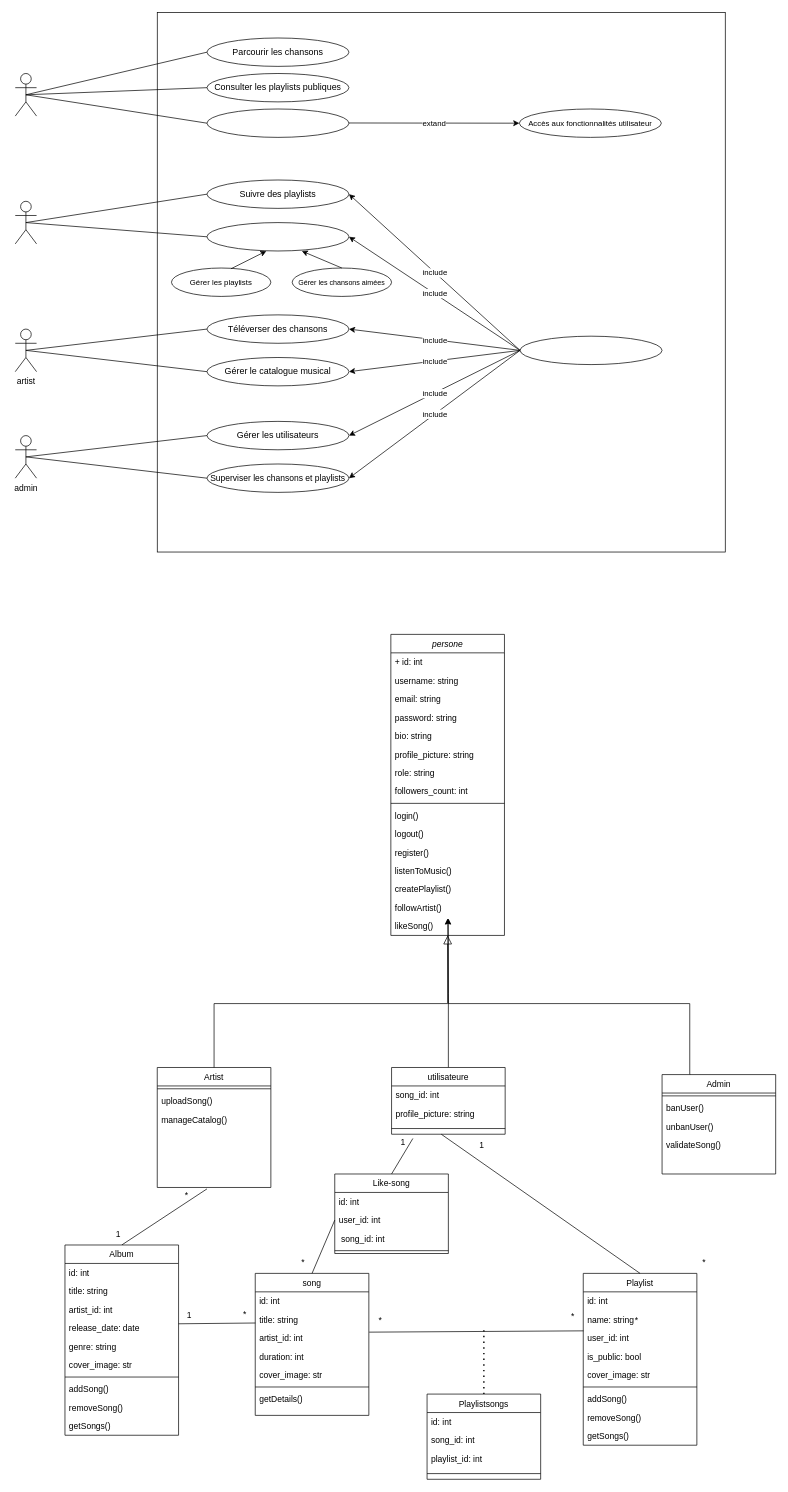
Image size: 788x1492. Some labels were removed from this diagram. The shapes that lost their labels are listed below. From the top down, each one's centre as x and y in pixels, then its label:
At (26,94): "visiteur".
At (277,122): "S'inscrire".
At (26,222): "clietnts".
At (277,236): "Gérer".
At (590,350): "S'inscrire / Se connecter".
